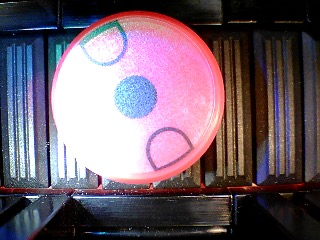BOHOMIPO2: (51, 10, 225, 184)
